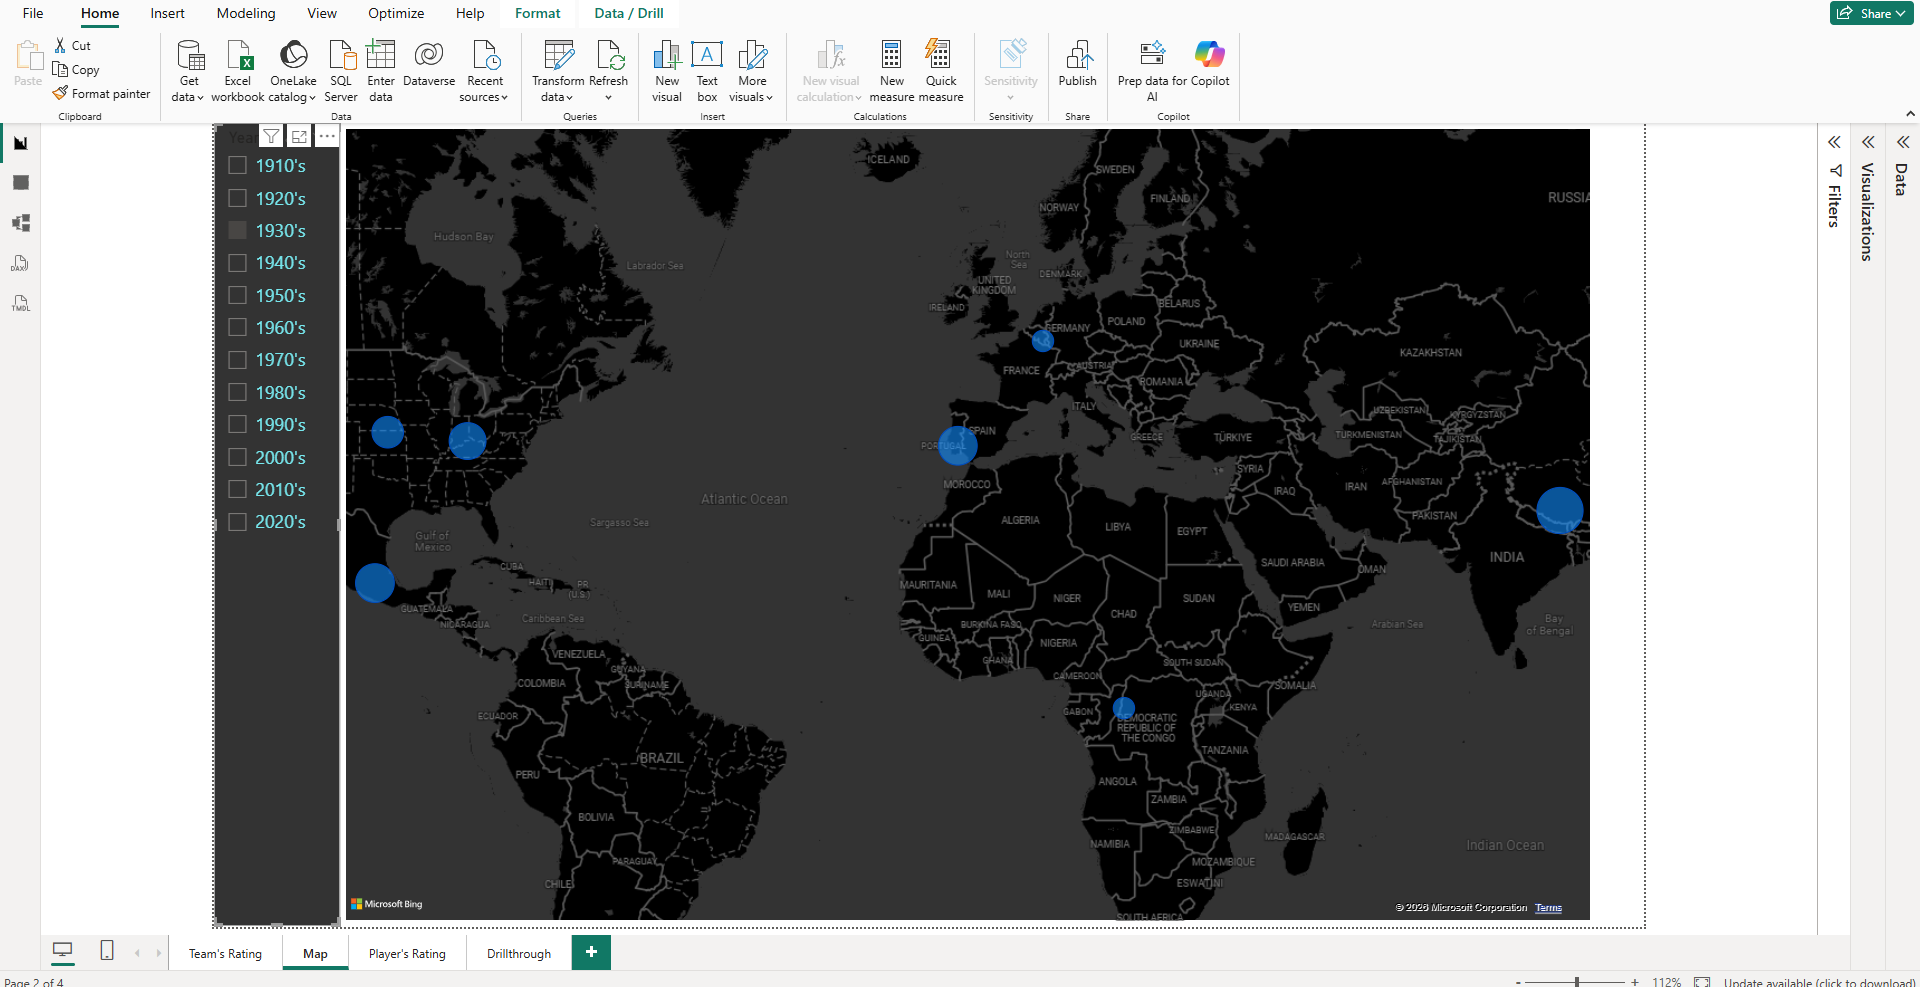

The dashboard page shown, as its layout file describes it:
{"tool":"powerbi","page":{"name":"Map","canvas":[1280,720],"ordinal":1},"visuals":[{"type":"map","fields":{"Category":["goalscorers.team"],"Size":["goalscorers.Total Score"]},"box":[113.1,0,1123.9,719.2],"z":0},{"type":"slicer","fields":{"Values":["goalscorers.Year Bins"]},"box":[0,0,113.1,719.2],"z":1000}]}

Visuals, with their boxes on the page's 1280x720 design canvas (x1, y1, x2, y2). These are canvas units, not pixel positions in the 1920x987 screenshot, which may show the page scaled, cropped or inside an application window:
map - goalscorers.team x goalscorers.Total Score: bbox=[113, 0, 1237, 719]
slicer - goalscorers.Year Bins: bbox=[0, 0, 113, 719]
